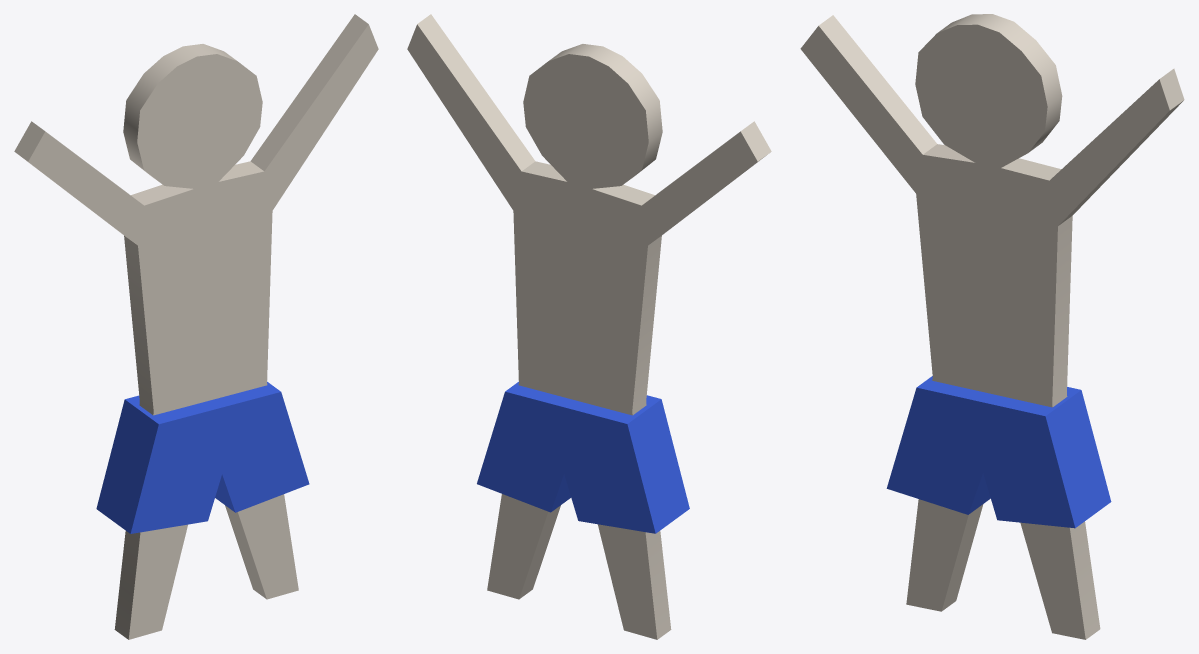
File: Drowner.FBX
3 renders of one model, left to right at view 1: azimuth 30°, elevation 25°; view 2: azimuth 150°, elevation 25°; view 3: azimuth 330°, elevation 25°, orthographic. The views are drawn at different scales.
Parts seen in each view (by area): view 1: Drowner; view 2: Drowner; view 3: Drowner.
Part boxes in pixels (x1,y1,x2,y2): Drowner: (14, 14, 378, 639); Drowner: (407, 14, 771, 639); Drowner: (800, 14, 1184, 639).
Size of the model in its own units: 1.15 by 1.78 by 0.1945.
